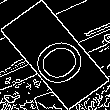O_NE: (18, 22, 92, 88)
